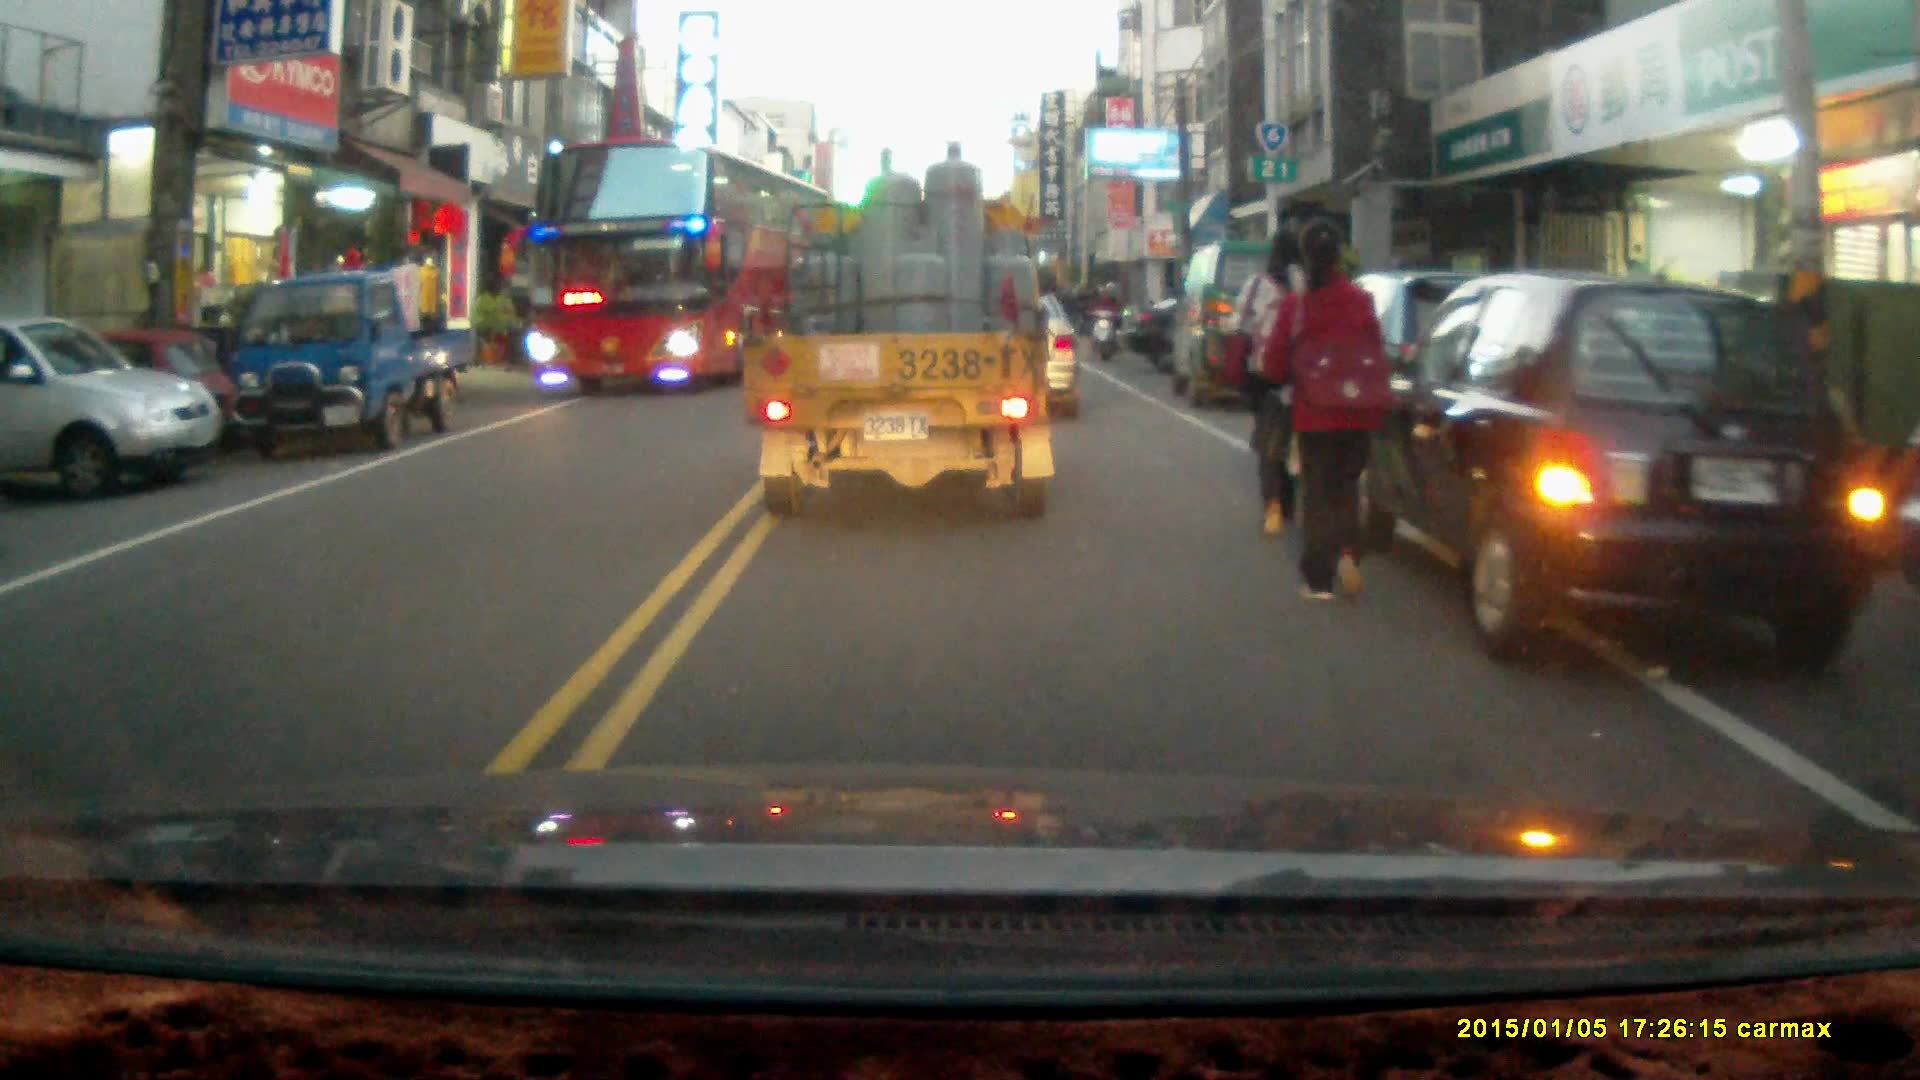pedestrian: (1259, 216, 1393, 607), (1230, 224, 1338, 540)
rider: (1088, 278, 1127, 364)
vehicle: (1355, 270, 1900, 677), (742, 142, 1064, 526), (522, 136, 831, 402), (229, 275, 476, 451), (1, 315, 221, 510), (1168, 240, 1375, 414)
